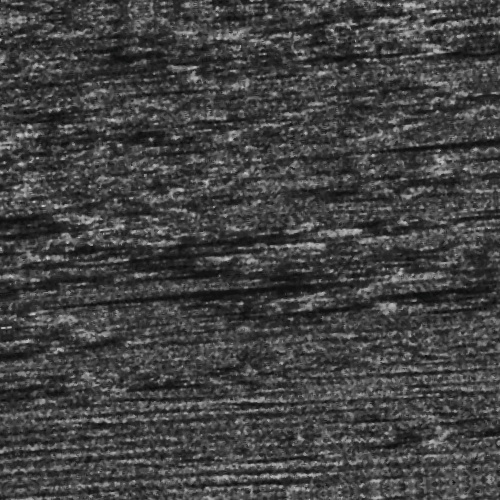object: (339, 283, 444, 294), (241, 238, 314, 253), (306, 233, 369, 242), (0, 104, 16, 129), (46, 192, 87, 201), (122, 259, 163, 264)
shadow: (0, 238, 278, 253), (85, 283, 392, 294), (134, 233, 338, 242), (414, 156, 500, 165), (14, 259, 142, 264), (0, 192, 66, 201)
